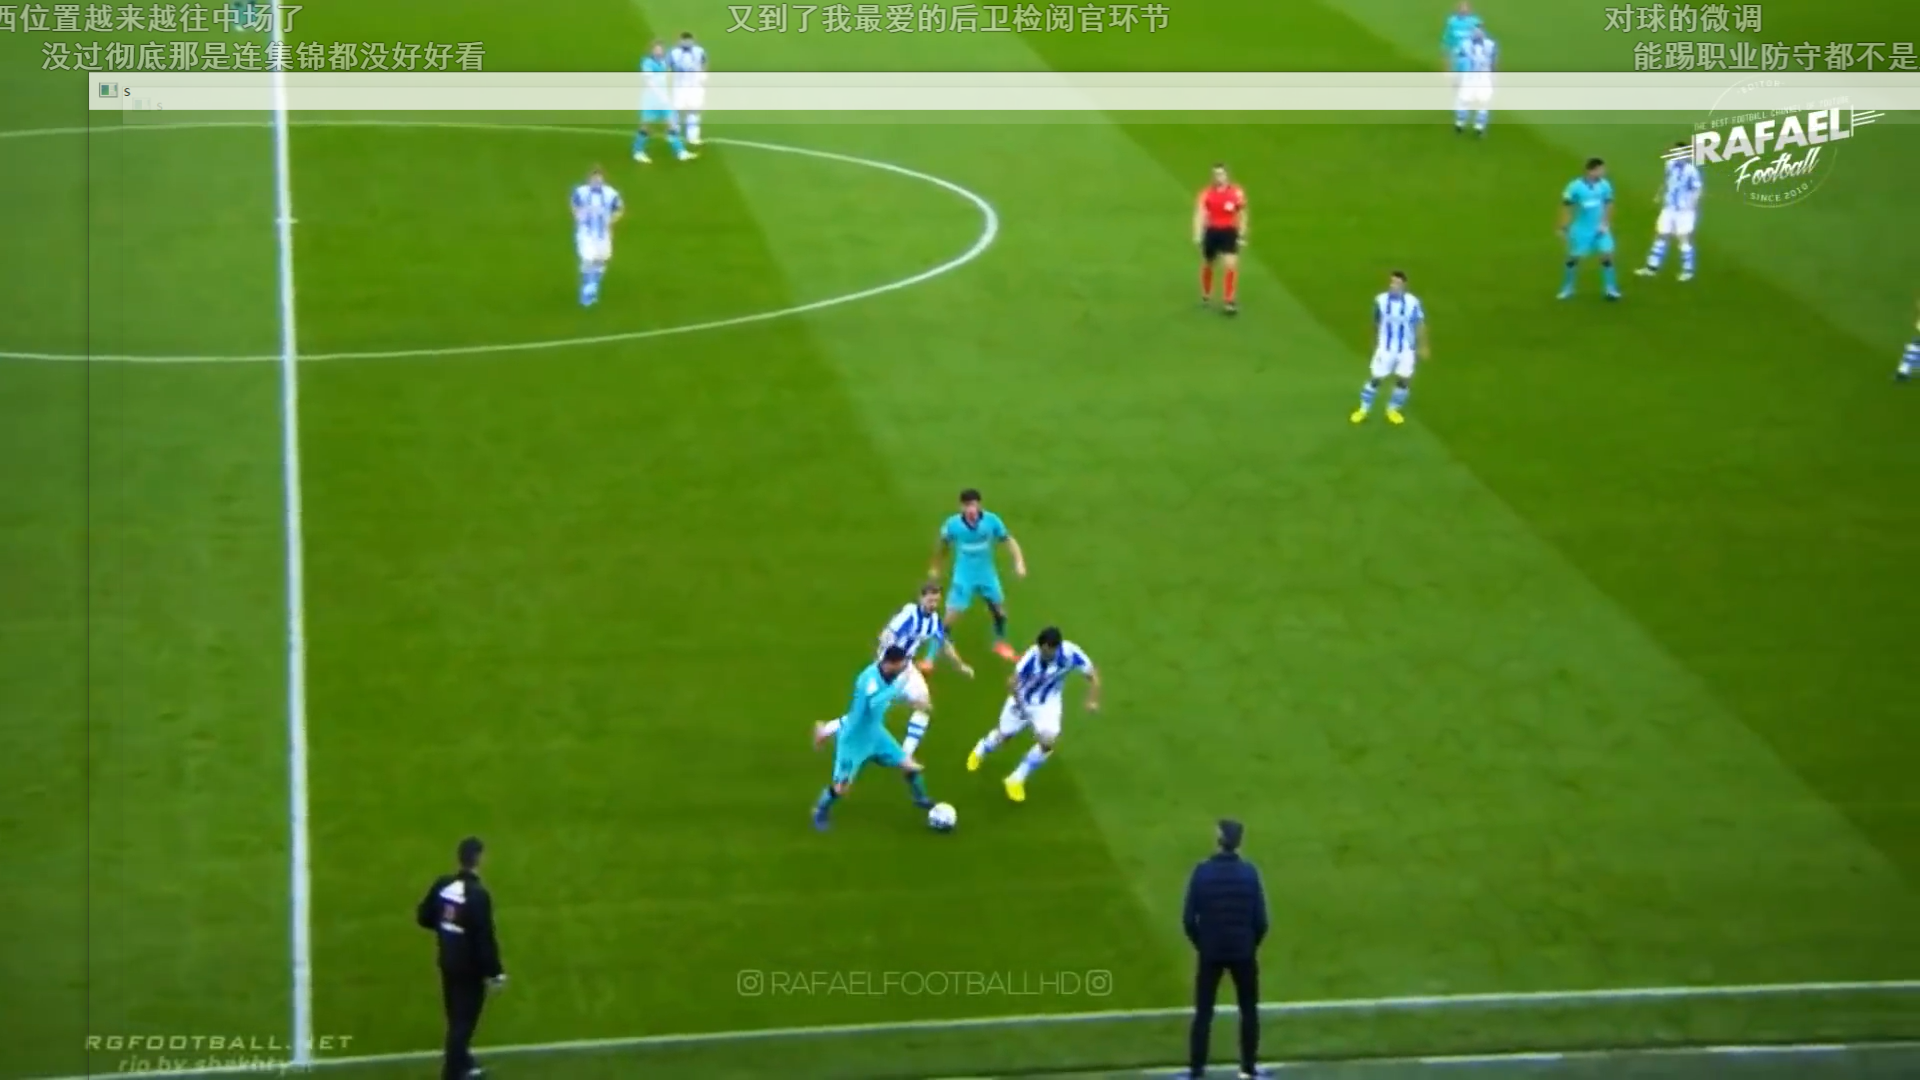ft: (927, 799, 959, 833)
